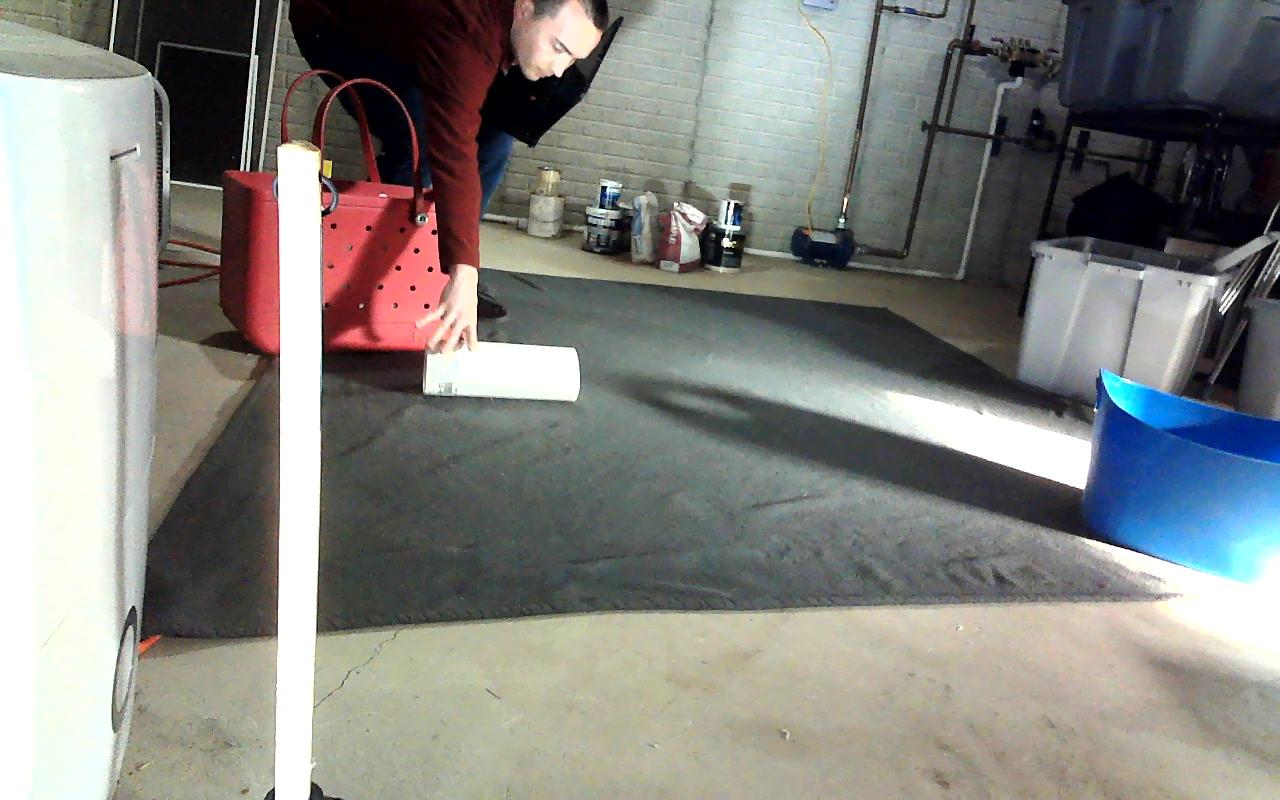coral: (424, 338, 579, 401)
